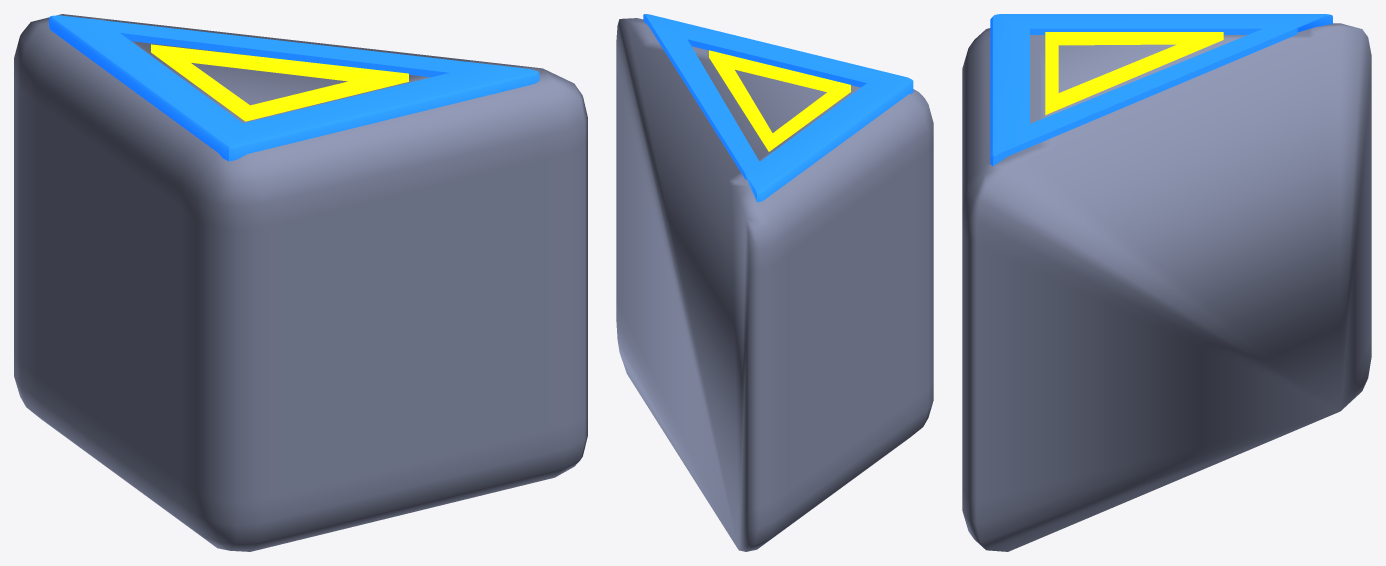
File: AngleTileModel.fbx
3 renders of one model, left to right at view 1: azimuth 30°, elevation 25°; view 2: azimuth 150°, elevation 25°; view 3: azimuth 270°, elevation 25°, orthographic. The views are drawn at different scales.
Parts seen in each view (by area): view 1: AngleTile, AngleTileGlow, AngleTileAdditionalGlow; view 2: AngleTile, AngleTileGlow, AngleTileAdditionalGlow; view 3: AngleTile, AngleTileGlow, AngleTileAdditionalGlow.
Part boxes in pixels (left/top/right/bottom): AngleTile: left=14, top=14, right=587, bottom=551; AngleTileGlow: left=49, top=15, right=539, bottom=161; AngleTileAdditionalGlow: left=151, top=44, right=408, bottom=121; AngleTile: left=616, top=18, right=933, bottom=551; AngleTileGlow: left=643, top=14, right=913, bottom=202; AngleTileAdditionalGlow: left=709, top=50, right=850, bottom=151; AngleTile: left=962, top=23, right=1371, bottom=551; AngleTileGlow: left=990, top=14, right=1332, bottom=165; AngleTileAdditionalGlow: left=1045, top=32, right=1223, bottom=114.
Bounding box in the file's own units: 193 × 204 × 193.
